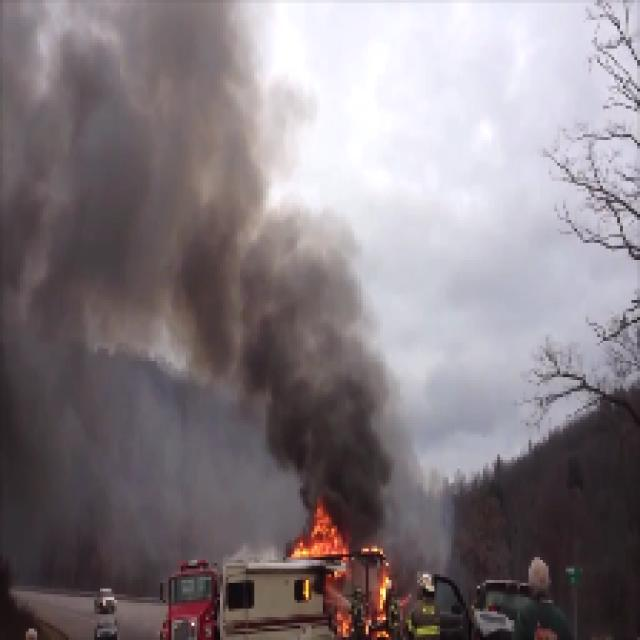fire: (290, 505, 348, 562)
smoke: (5, 1, 246, 538), (250, 102, 345, 478), (353, 344, 413, 532)
